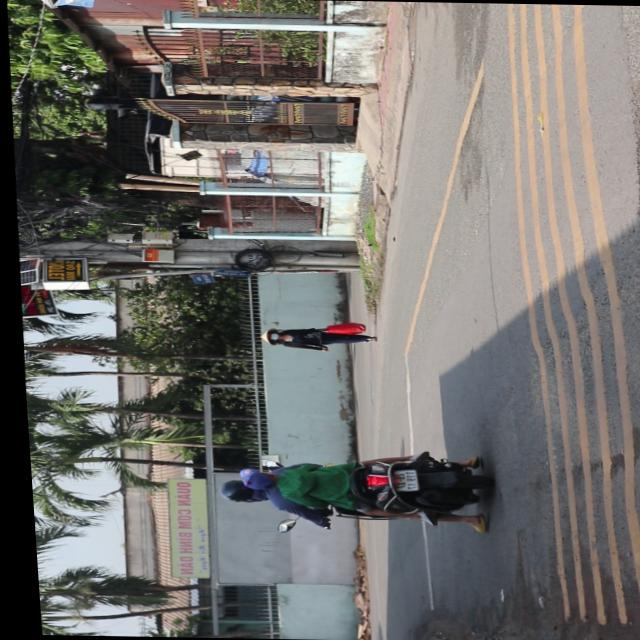helmet: (209, 477, 249, 502)
licenseplate: (206, 444, 486, 529)
motorcyclist: (232, 468, 269, 490)
nohelmet: (387, 469, 409, 489)
